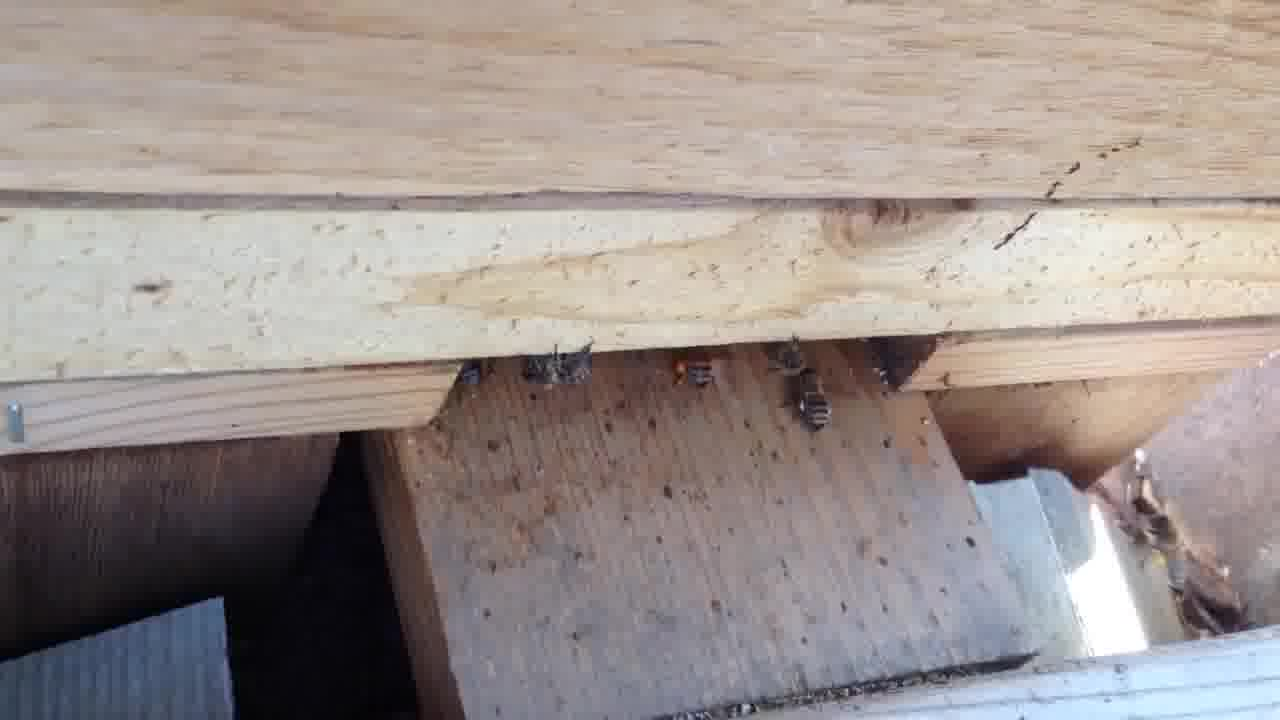pollen: (789, 364, 834, 436)
